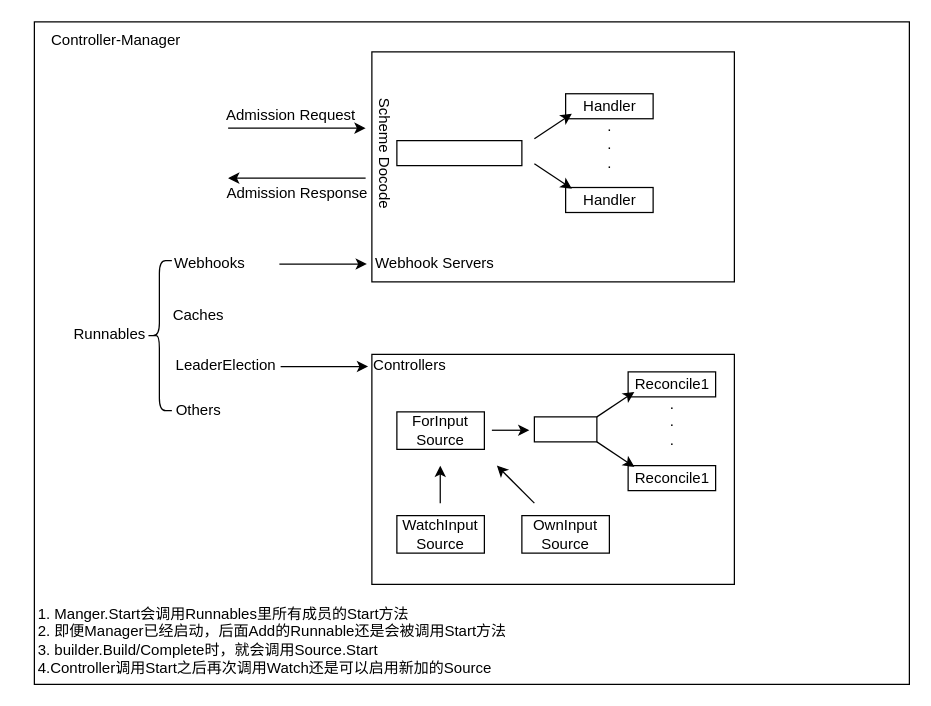
The diagram is 931 pixels wide and 706 high, and some of its shapes have lost their labels. Each missing label, with the centre of its shape:
"/Generated Path" belongs at (x=459, y=152).
"Queue" belongs at (x=565, y=429).
